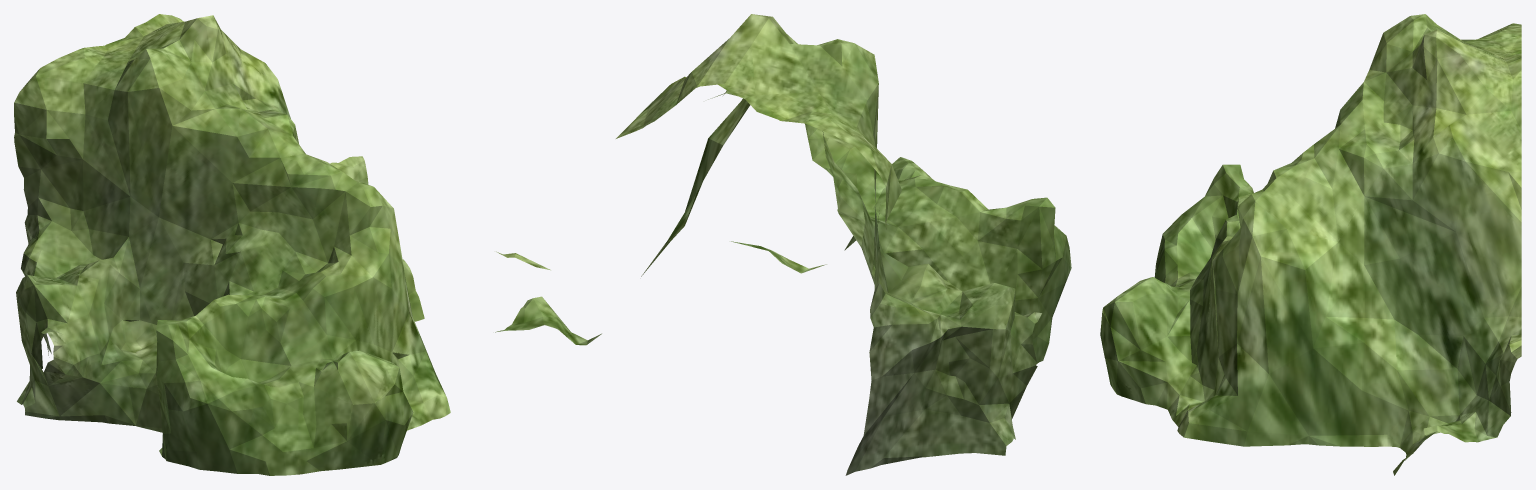
3 renders of one model, left to right at view 1: azimuth 30°, elevation 25°; view 2: azimuth 150°, elevation 25°; view 3: azimuth 270°, elevation 25°, orthographic. The views are drawn at different scales.
Size of the model in its own units: 2.95 by 2.37 by 2.64.
Materials: 4 (4 with a texture image).
